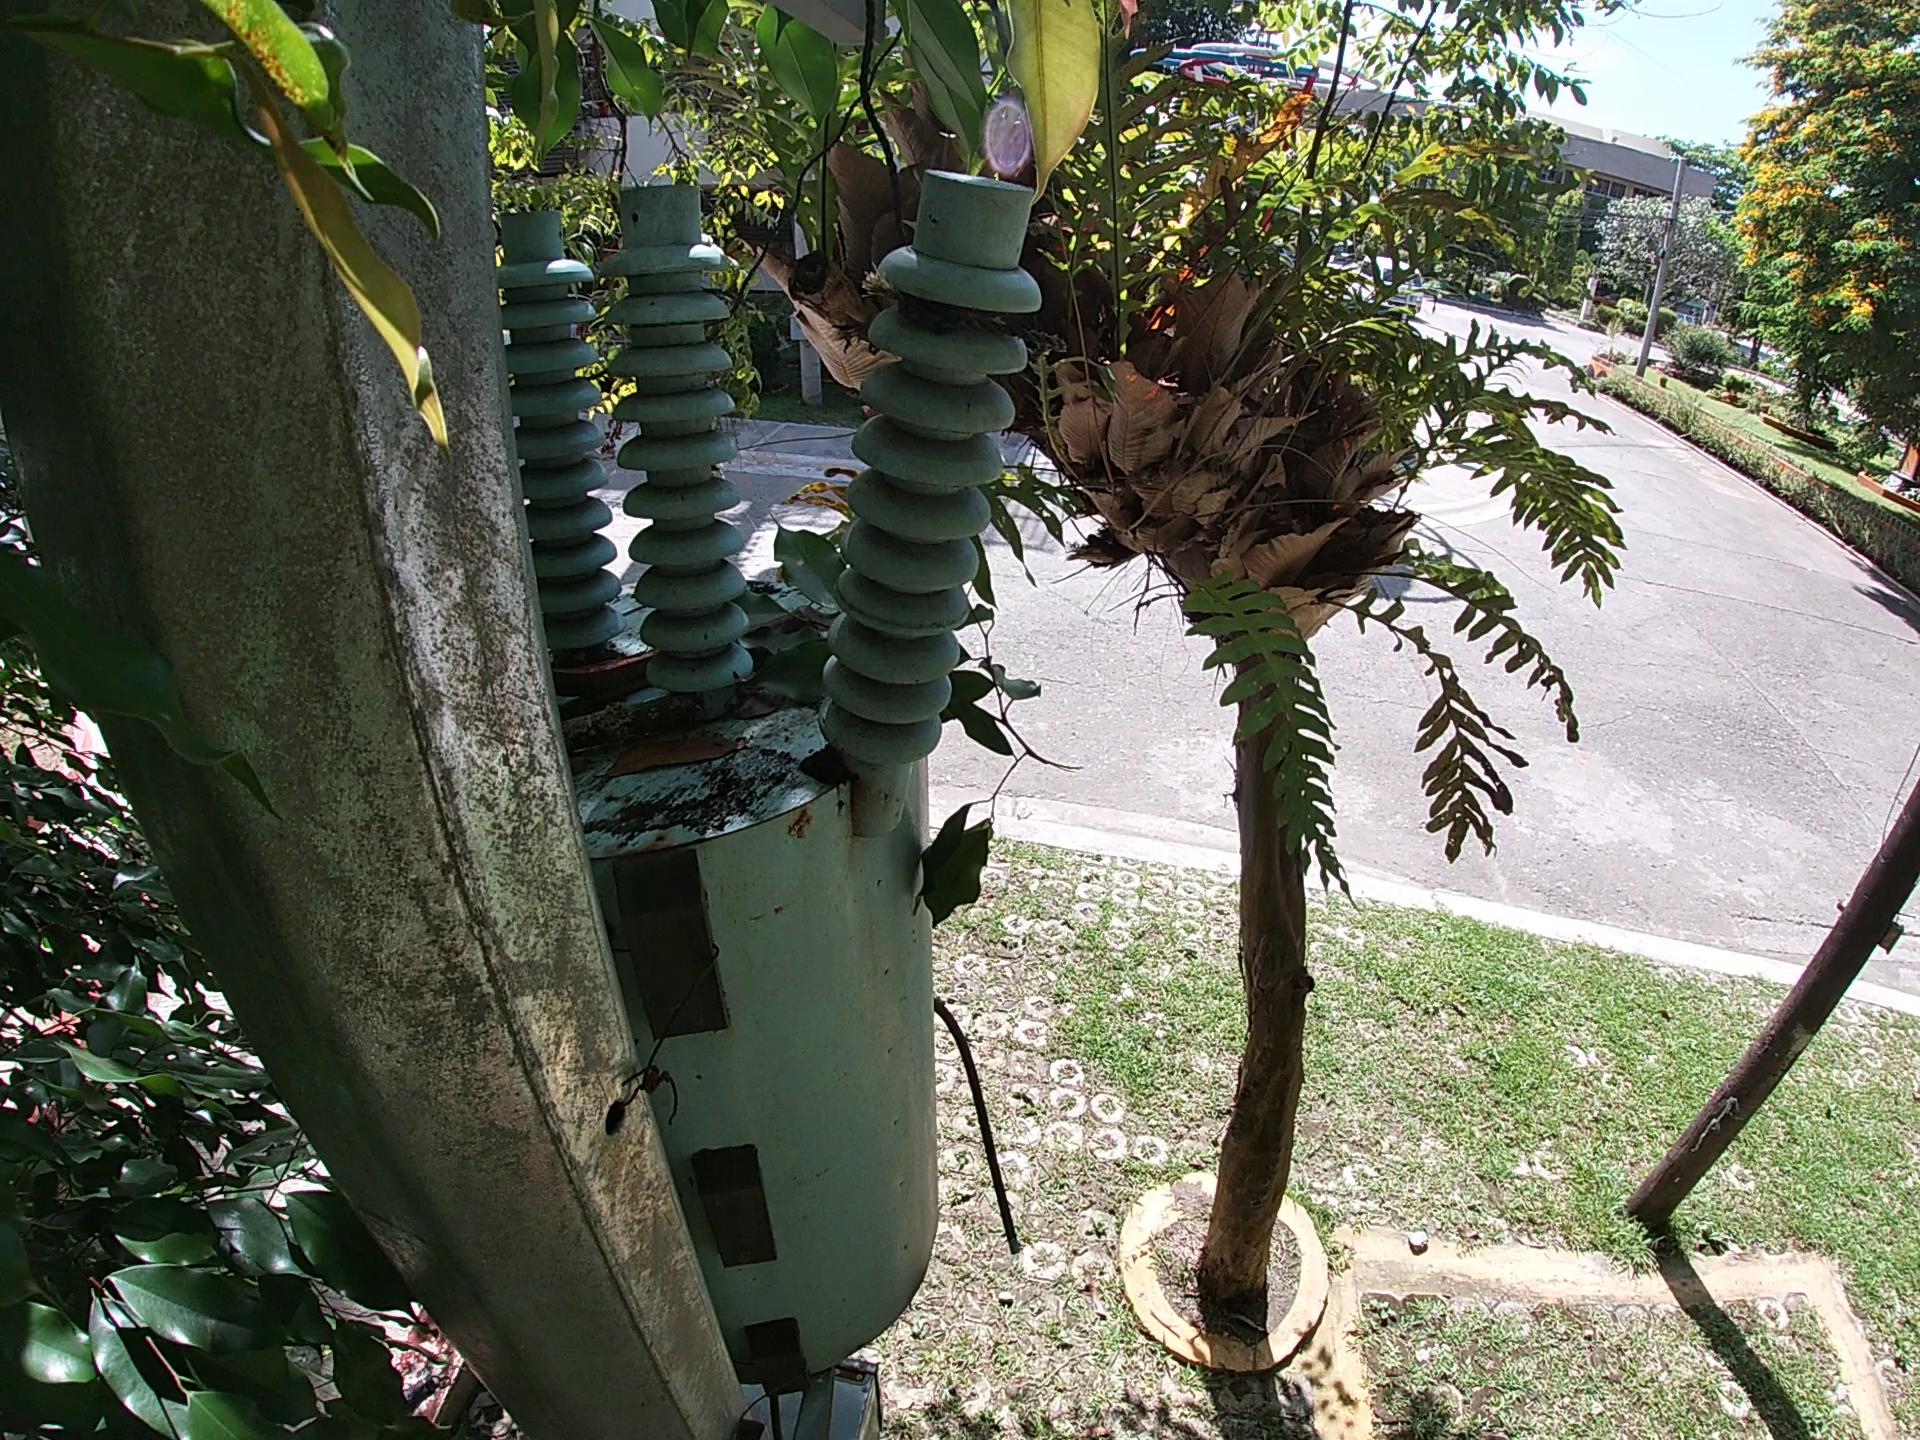branch with leaves: (909, 542, 1079, 1004)
leaf: (753, 498, 844, 690), (600, 738, 754, 774)
mahogany fruit: (547, 643, 659, 682)
tree branch: (555, 694, 727, 725)
